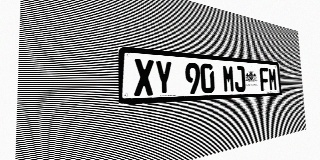0: (200, 63, 215, 93)
9: (185, 62, 201, 94)
F: (259, 67, 269, 91)
J: (234, 65, 246, 92)
M: (222, 65, 235, 93), (268, 68, 277, 91)
X: (134, 59, 154, 96)
Y: (154, 60, 173, 95)
